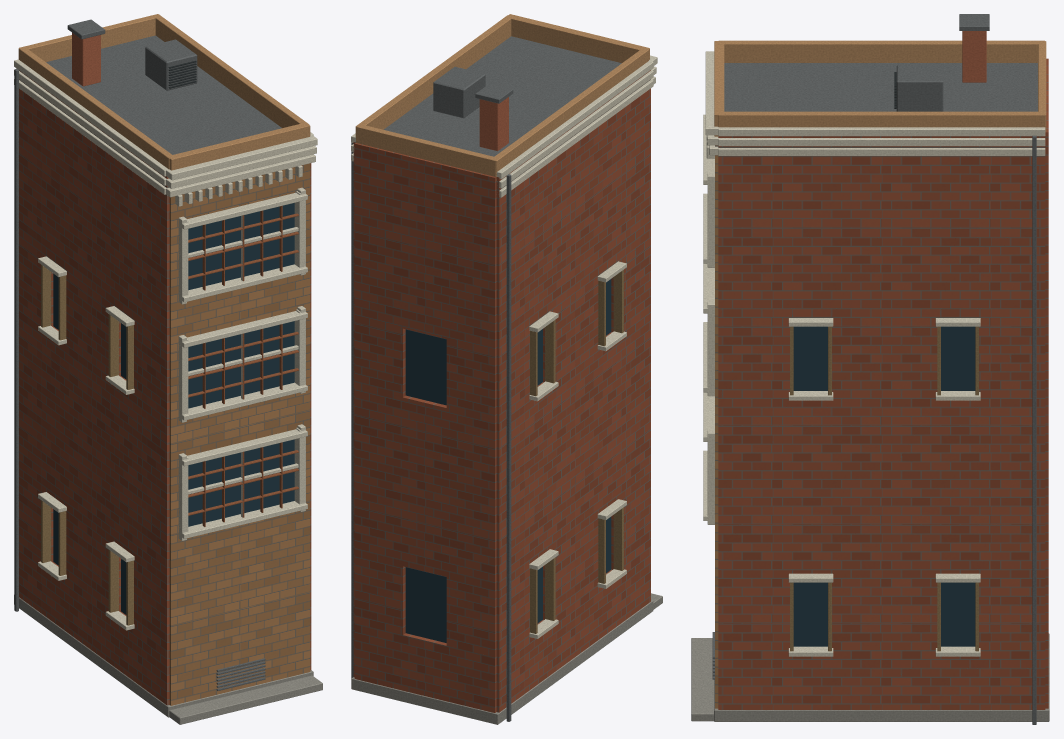
The model's file is WRHS1_lod1.glb.
3 views of the same model, side by side, from view 1: azimuth 30°, elevation 25°; view 2: azimuth 150°, elevation 25°; view 3: azimuth 270°, elevation 25° (orthographic). The views are drawn at different scales.
Parts seen in each view (by area): view 1: WRHS1_LOD1; view 2: WRHS1_LOD1; view 3: WRHS1_LOD1.
Part boxes in pixels (x1,y1,x2,y2): WRHS1_LOD1: (14, 14, 322, 724); WRHS1_LOD1: (351, 14, 662, 724); WRHS1_LOD1: (691, 14, 1049, 724).
Size of the model in its own units: 3.71 by 13.05 by 6.57.
12 materials, 10 textured.
